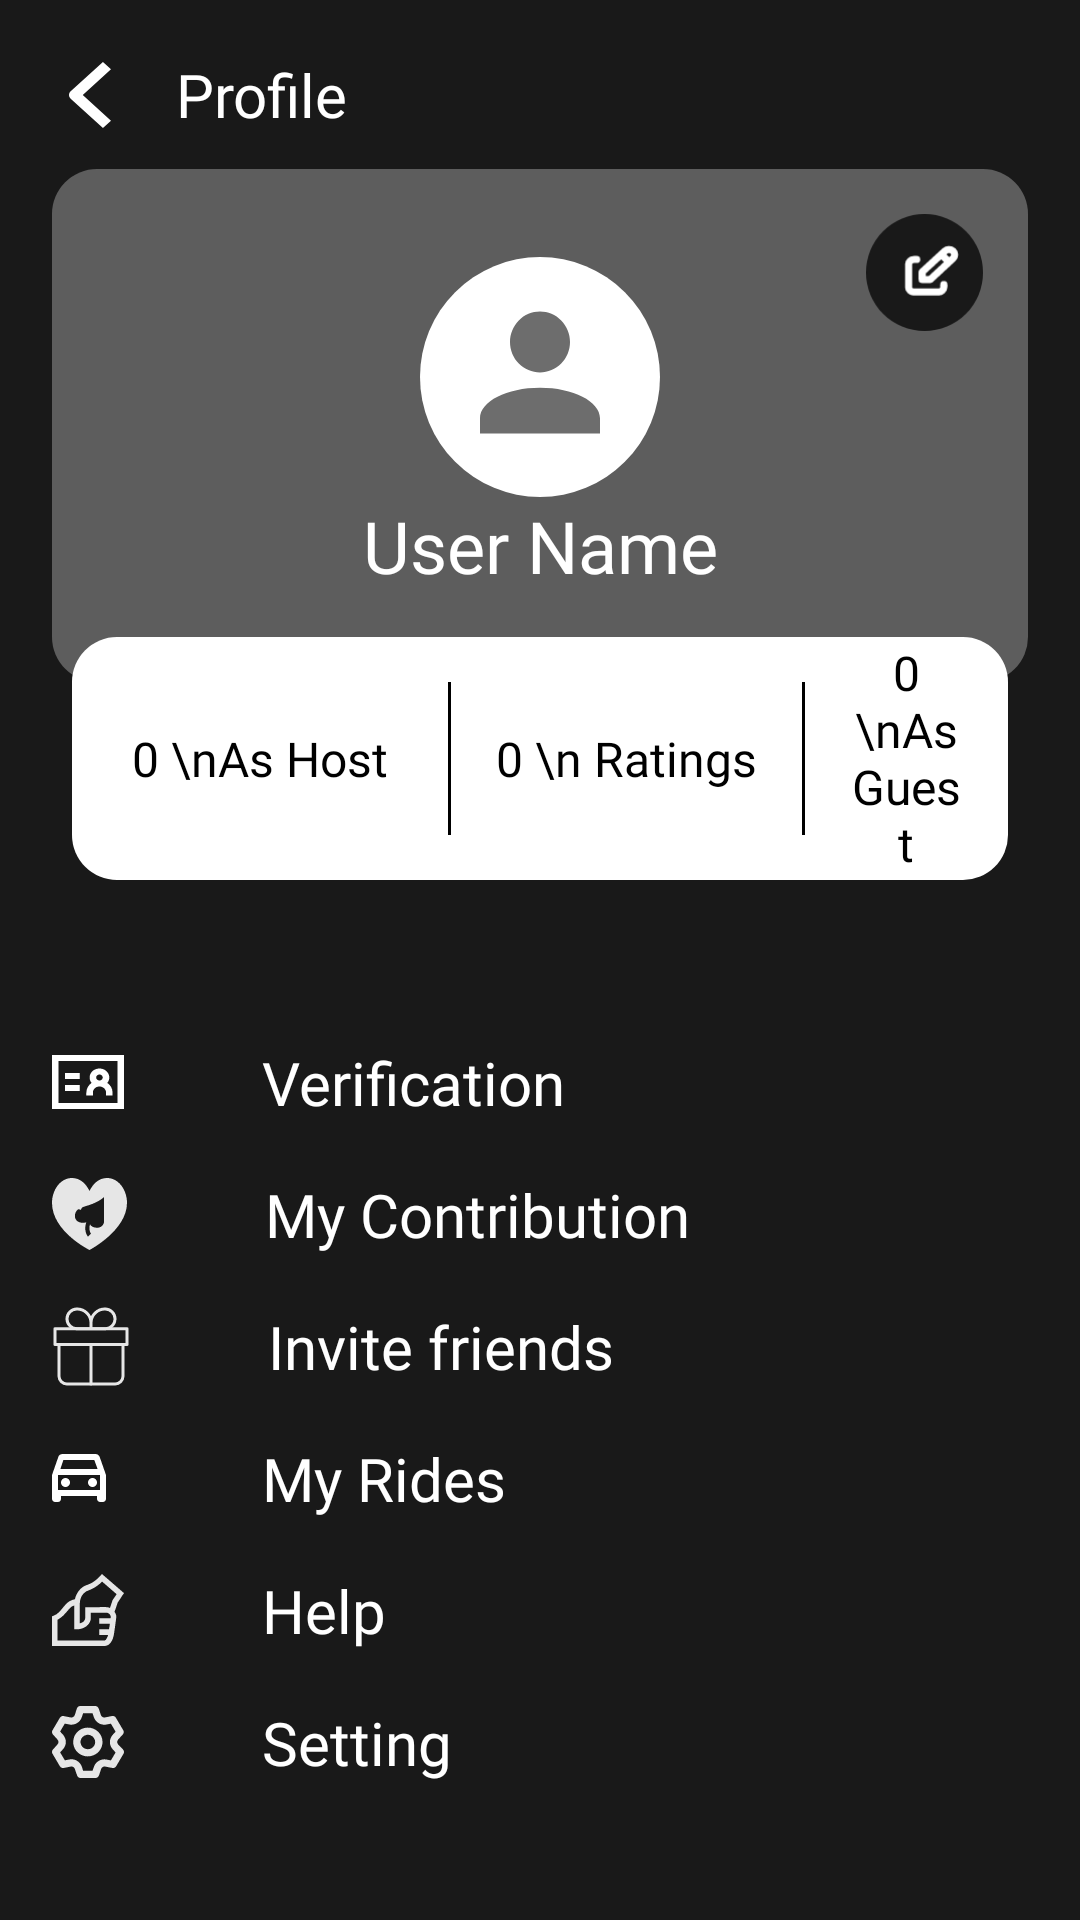

Icon bounding boxes for this 1080px x 1920px phone screenshot, format (left=x1, top=y1, right=x2, bottom=y2):
Back button: (left=69, top=62, right=111, bottom=128)
edit profile: (left=866, top=214, right=983, bottom=331)
